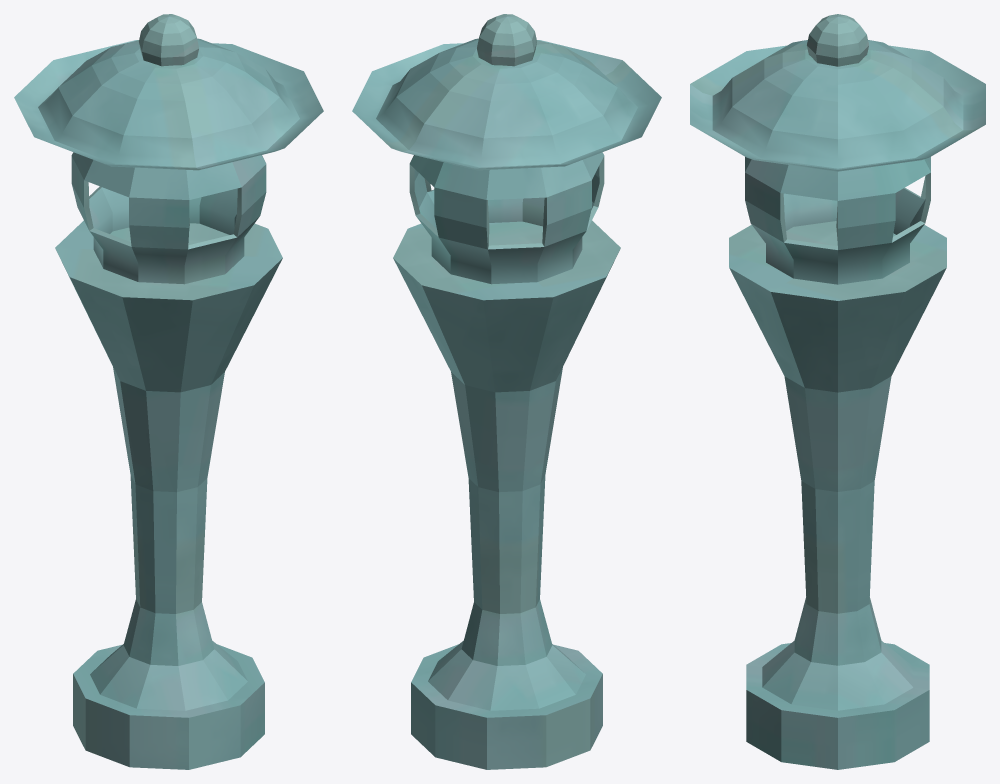
The model's file is SM_StoneLantern_04.fbx.
3 views of the same model, side by side, from view 1: azimuth 30°, elevation 25°; view 2: azimuth 150°, elevation 25°; view 3: azimuth 270°, elevation 25° (orthographic).
Parts seen in each view (by area): view 1: SM_StoneLantern_04; view 2: SM_StoneLantern_04; view 3: SM_StoneLantern_04.
Boxes of the visible parts, x1,y1,x2,y2 form: SM_StoneLantern_04: (14, 14, 323, 769); SM_StoneLantern_04: (352, 14, 661, 769); SM_StoneLantern_04: (690, 14, 985, 769).
Bounding box in the file's own units: 59.28 × 150 × 56.38.
